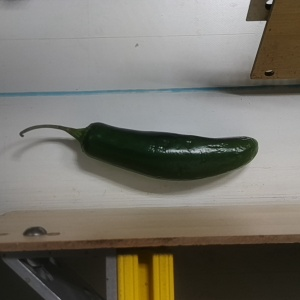Cut Point: (71, 119, 104, 155)
